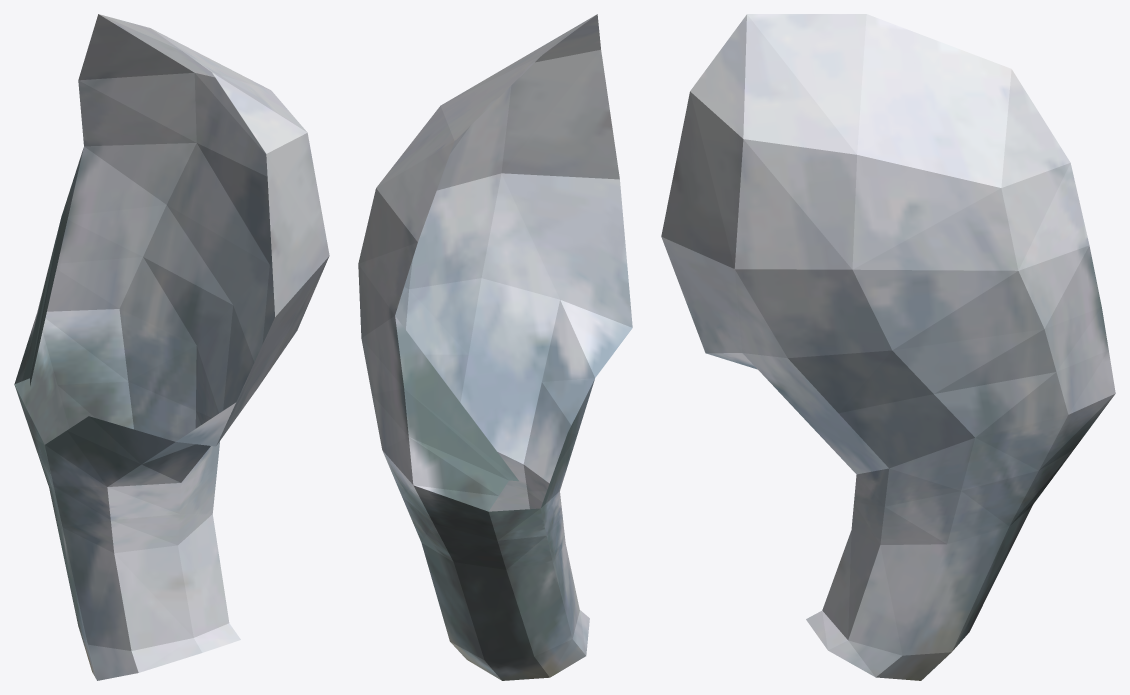
The model's file is Pata1_Delantera_Izq.obj.
3 views of the same model, side by side, from view 1: azimuth 30°, elevation 25°; view 2: azimuth 150°, elevation 25°; view 3: azimuth 270°, elevation 25° (orthographic). The views are drawn at different scales.
Visible parts, largest first — view 1: Pata1_Delantera_IzqpolySurface18polySurface16polySurface14polySu; view 2: Pata1_Delantera_IzqpolySurface18polySurface16polySurface14polySu; view 3: Pata1_Delantera_IzqpolySurface18polySurface16polySurface14polySu.
Part boxes in pixels (box(x1,y1,x2,y2)): Pata1_Delantera_IzqpolySurface18polySurface16polySurface14polySu: box(14, 14, 329, 680); Pata1_Delantera_IzqpolySurface18polySurface16polySurface14polySu: box(358, 14, 632, 680); Pata1_Delantera_IzqpolySurface18polySurface16polySurface14polySu: box(661, 14, 1115, 680).
Bounding box in the file's own units: 0.0386 × 0.1264 × 0.0805.
Materials: 1 (1 with a texture image).
